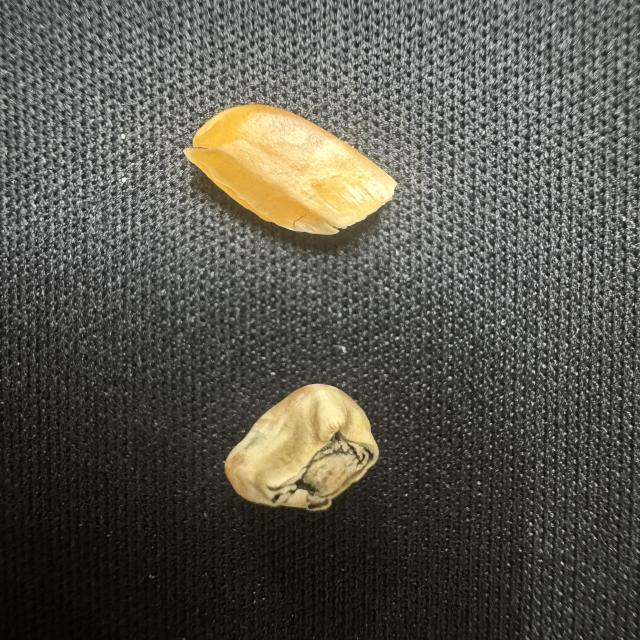Bad-Seed: (174, 102, 399, 249), (216, 376, 398, 524)
